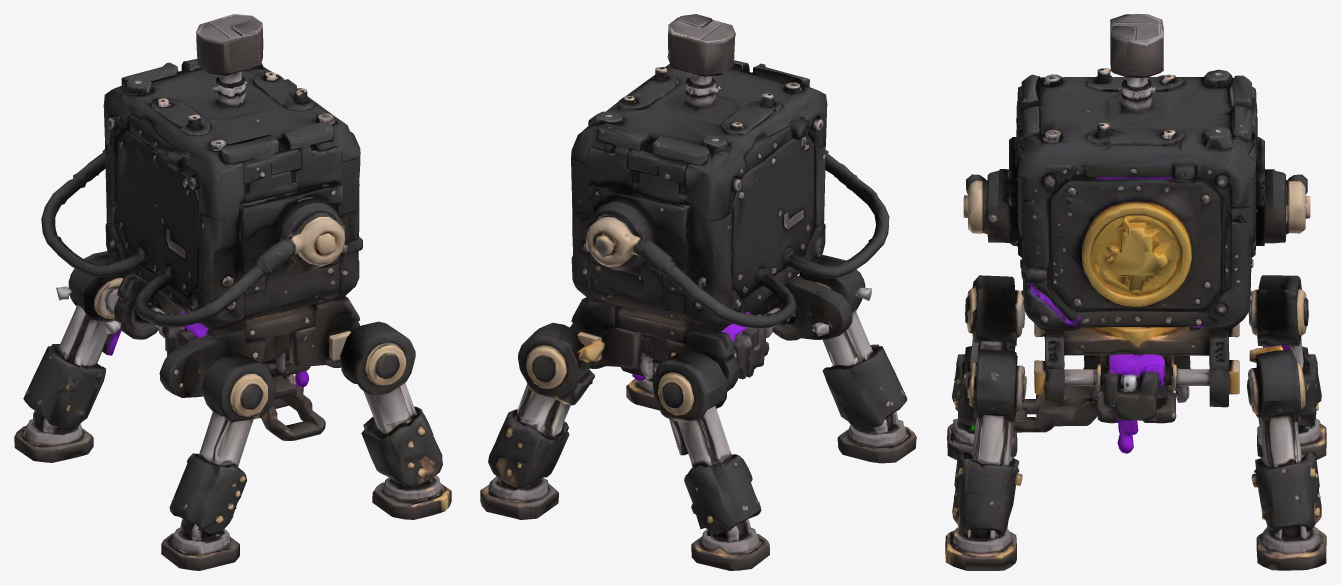
The model's file is boss_redactor.glb.
The picture shows the model from 3 angles, left to right: view 1: azimuth 30°, elevation 25°; view 2: azimuth 150°, elevation 25°; view 3: azimuth 270°, elevation 25°; orthographic projection. The views are drawn at different scales.
Parts seen in each view (by area): view 1: tripo_node_7a4e85cb-b17a-46be-9e21-ec8c0f4d9e66; view 2: tripo_node_7a4e85cb-b17a-46be-9e21-ec8c0f4d9e66; view 3: tripo_node_7a4e85cb-b17a-46be-9e21-ec8c0f4d9e66.
Boxes of the visible parts, left/top/right/bottom form: tripo_node_7a4e85cb-b17a-46be-9e21-ec8c0f4d9e66: left=14, top=14, right=451, bottom=570; tripo_node_7a4e85cb-b17a-46be-9e21-ec8c0f4d9e66: left=480, top=14, right=916, bottom=570; tripo_node_7a4e85cb-b17a-46be-9e21-ec8c0f4d9e66: left=945, top=14, right=1326, bottom=570.
Bounding box in the file's own units: 0.6717 × 0.9999 × 0.7268.
1 material, 1 textured.
